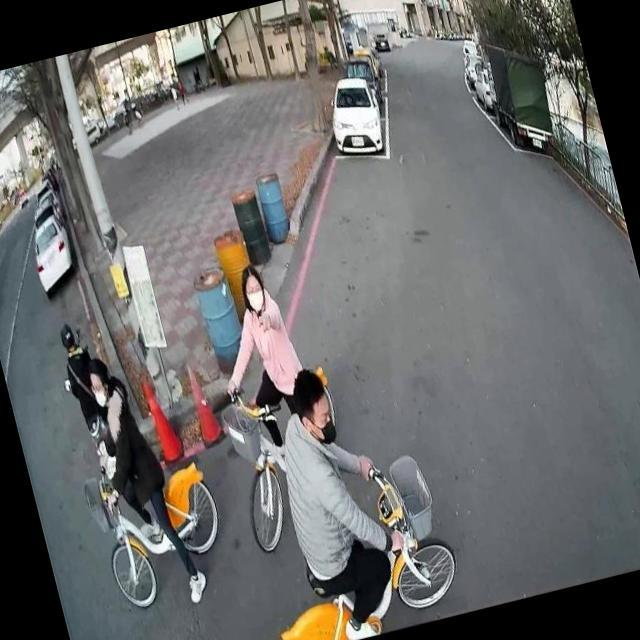person: (252, 350, 427, 640), (71, 341, 212, 621), (195, 250, 326, 472), (51, 316, 117, 450)
